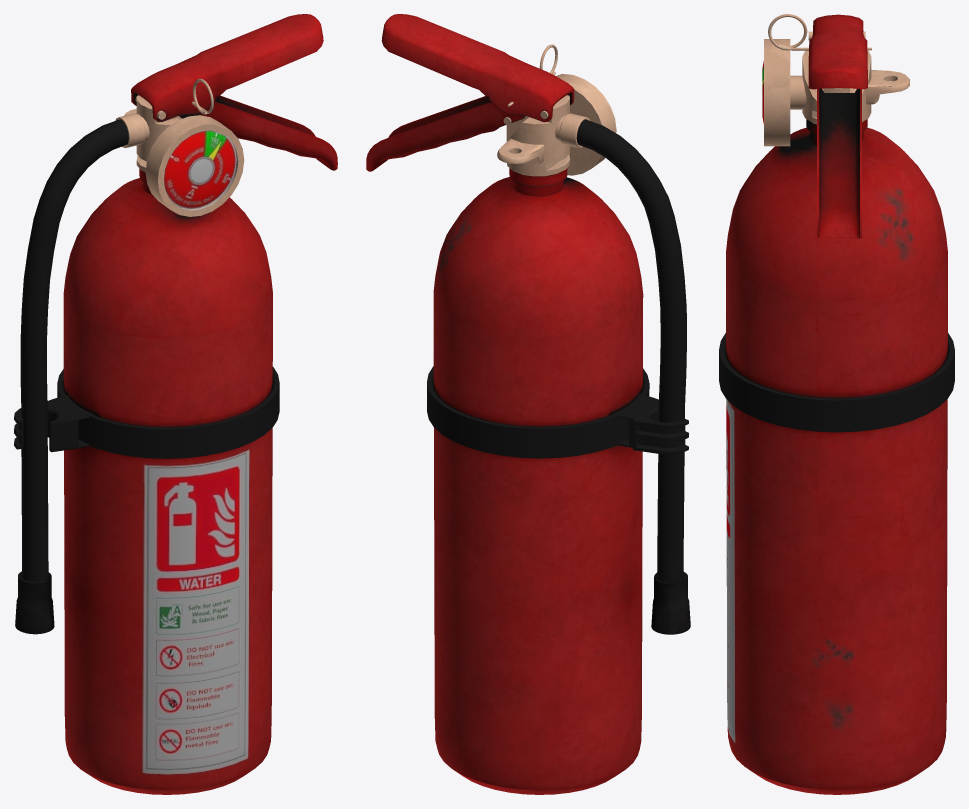
Rendered from 503_water_fire_extinguisher_low_poly.glb.
3 views of the same model, side by side, from view 1: azimuth 30°, elevation 25°; view 2: azimuth 150°, elevation 25°; view 3: azimuth 270°, elevation 25° (orthographic). The views are drawn at different scales.
Visible parts, largest first — view 1: Fire-extinguisherFoam.001_0, Line002.001_1, Moveable006.001_3, Moveable007.001_4, Moveable005.001_2; view 2: Fire-extinguisherFoam.001_0, Line002.001_1, Moveable006.001_3, Moveable007.001_4, Moveable005.001_2; view 3: Fire-extinguisherFoam.001_0, Moveable007.001_4, Moveable006.001_3, Moveable008.001_5.
Boxes of the visible parts, x1,y1,x2,y2 form: Fire-extinguisherFoam.001_0: (14,95,279,794); Line002.001_1: (20,119,128,581); Moveable006.001_3: (131,14,323,121); Moveable007.001_4: (179,95,337,170); Moveable005.001_2: (15,571,54,634); Fire-extinguisherFoam.001_0: (427,73,688,794); Line002.001_1: (576,119,686,581); Moveable006.001_3: (381,14,574,122); Moveable007.001_4: (366,96,525,171); Moveable005.001_2: (651,572,690,634); Fire-extinguisherFoam.001_0: (719,31,954,794); Moveable007.001_4: (817,88,861,238); Moveable006.001_3: (808,14,867,89); Moveable008.001_5: (768,14,871,50).
Bounding box in the file's own units: 0.4085 × 0.8939 × 0.248.
Materials: 2 (1 with a texture image).
